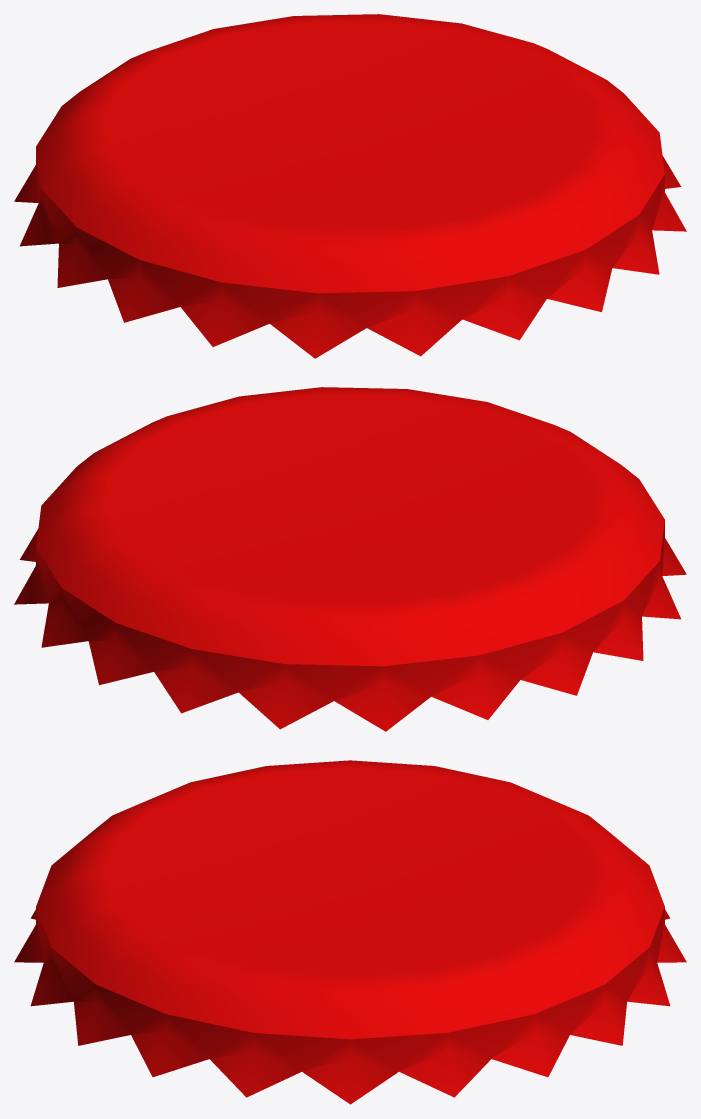
The model's file is bottlecap.fbx.
3 renders of one model, top to bottom at view 1: azimuth 30°, elevation 25°; view 2: azimuth 150°, elevation 25°; view 3: azimuth 270°, elevation 25°, orthographic.
Parts seen in each view (by area): view 1: BottleCap; view 2: BottleCap; view 3: BottleCap.
Boxes of the visible parts, x1,y1,x2,y2 form: BottleCap: (14, 14, 686, 358); BottleCap: (14, 387, 686, 731); BottleCap: (14, 760, 686, 1104).
Bounding box in the file's own units: 0.2141 × 0.0317 × 0.2141.
